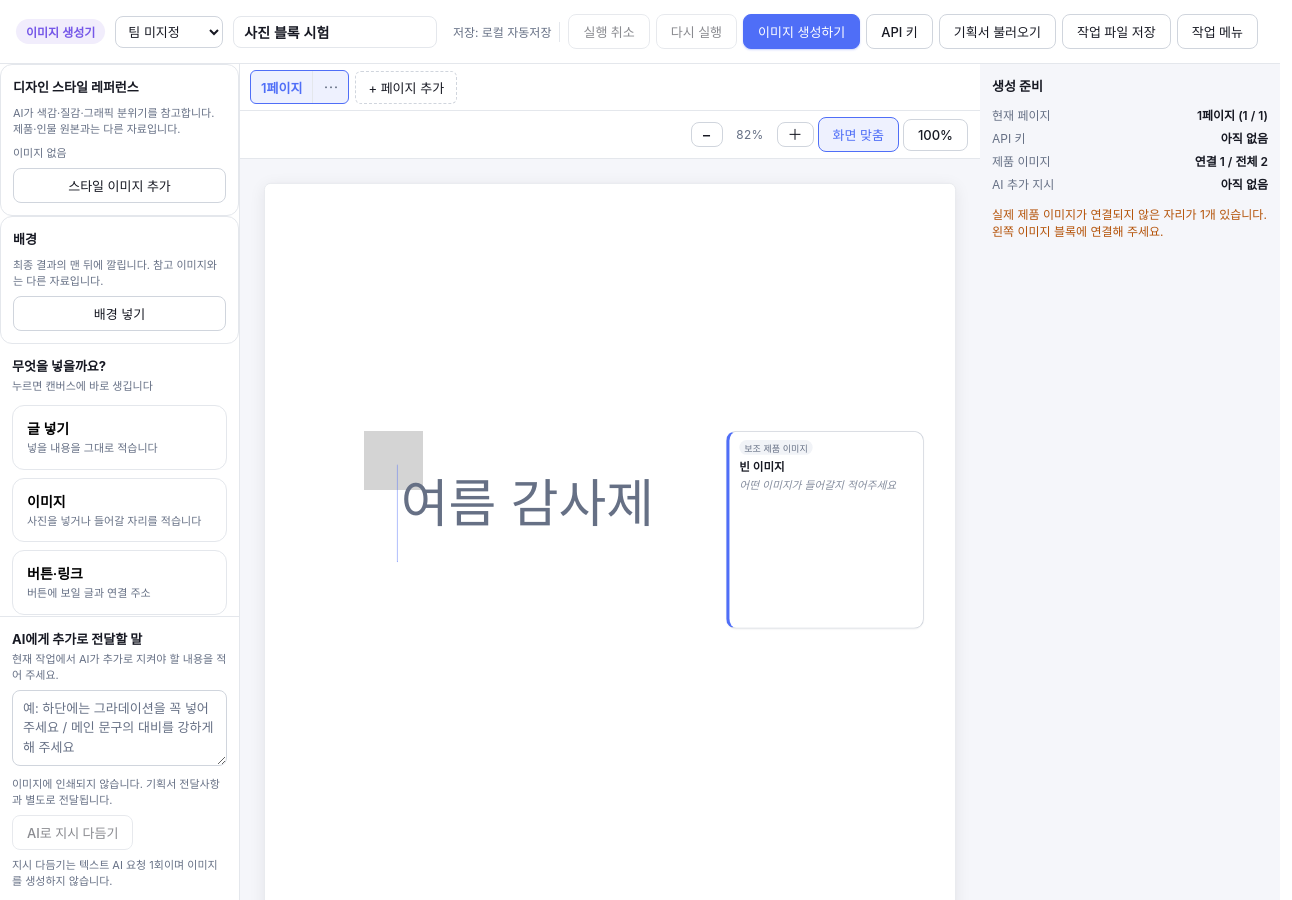
it: Patch-3 레이어 순서를 블록에서 바로 바꾼다 › 선택한 블록의 도구막대에 레이어 메뉴가 있다
The width and height of the screenshot is (1292, 900).
Step 1. Press the mouse on the button with class "block-card" showing "여름 감사제" → (528, 513), box [397,464,660,563]
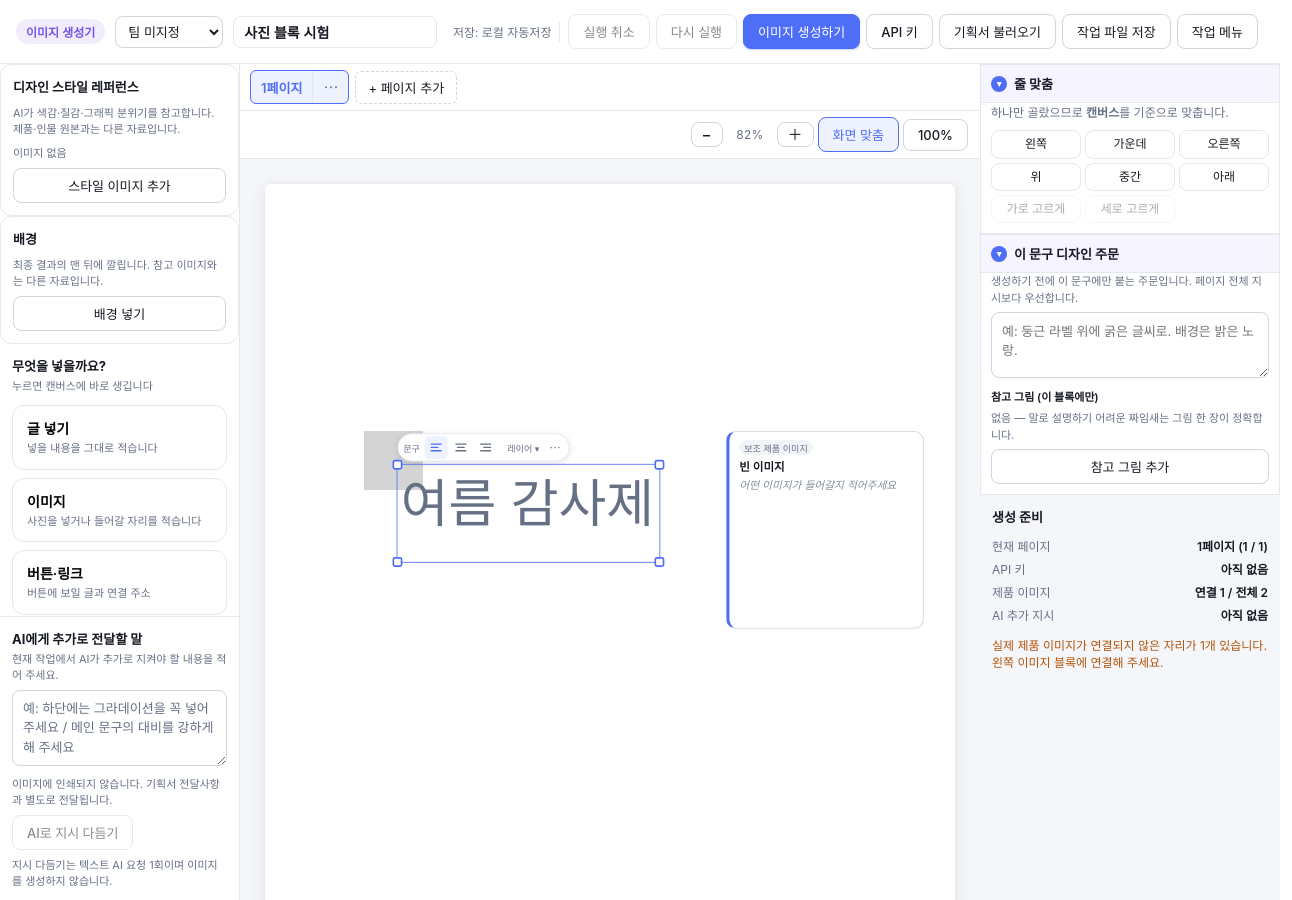
Expected: the button with class "block-card" is pressed, [397,464,660,563]
Step 2. Click the button with aria-label "레이어 순서" → (523, 448), box [502,441,544,454]
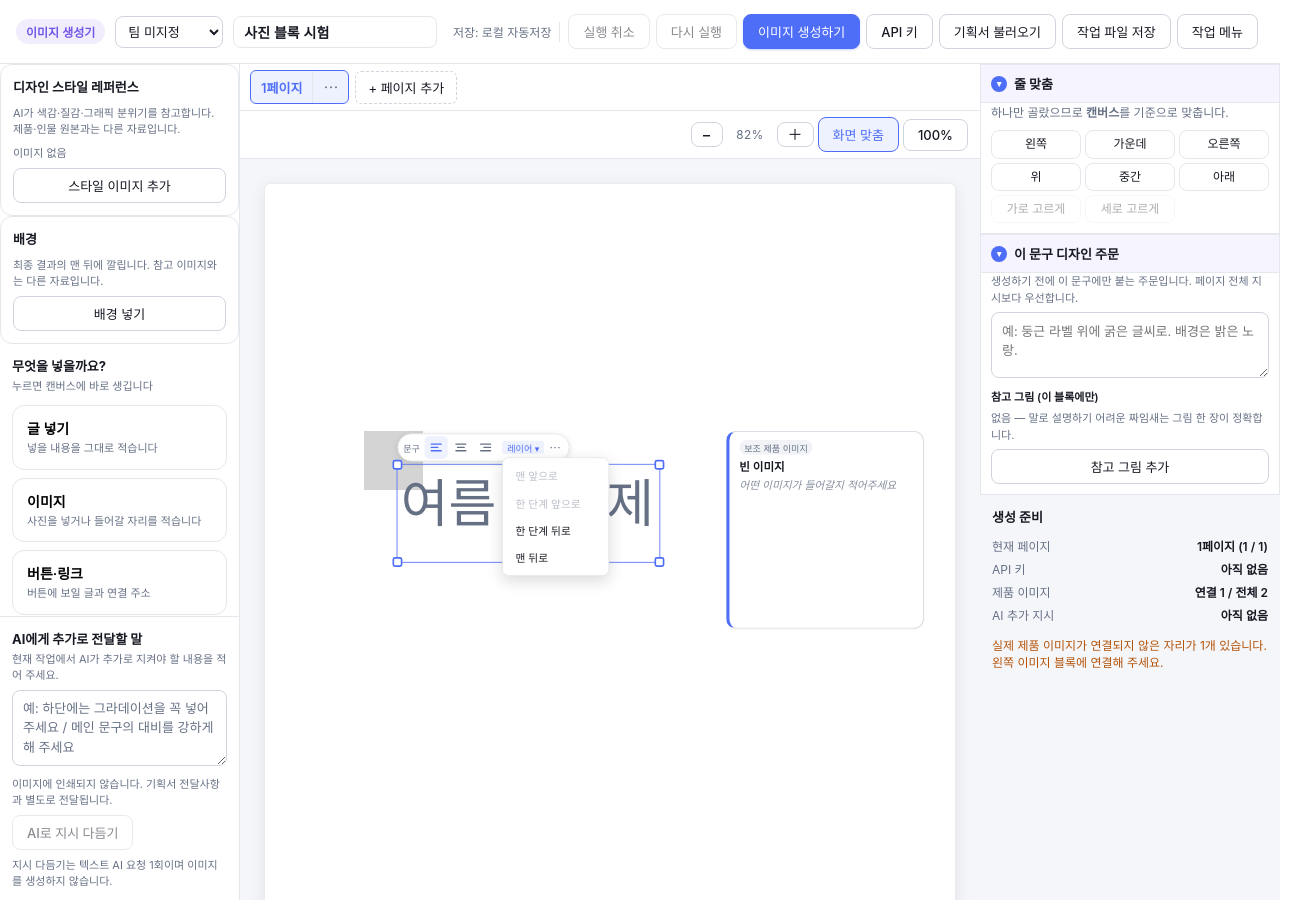
Expected: the button "맨 앞으로" is shown, [507,462,604,490]
Expected: the button "한 단계 앞으로" is shown, [507,490,604,517]
Expected: the button "한 단계 뒤로" is shown, [507,517,604,544]
